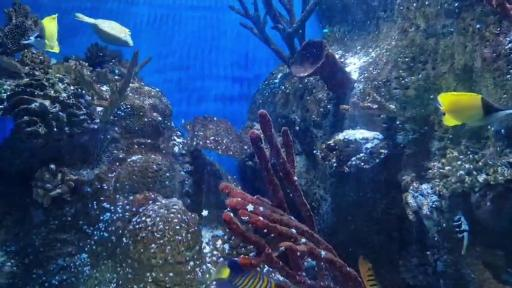Fish: (437, 92, 512, 126), (75, 13, 133, 47), (214, 258, 274, 288), (22, 14, 60, 53), (358, 256, 381, 288)
